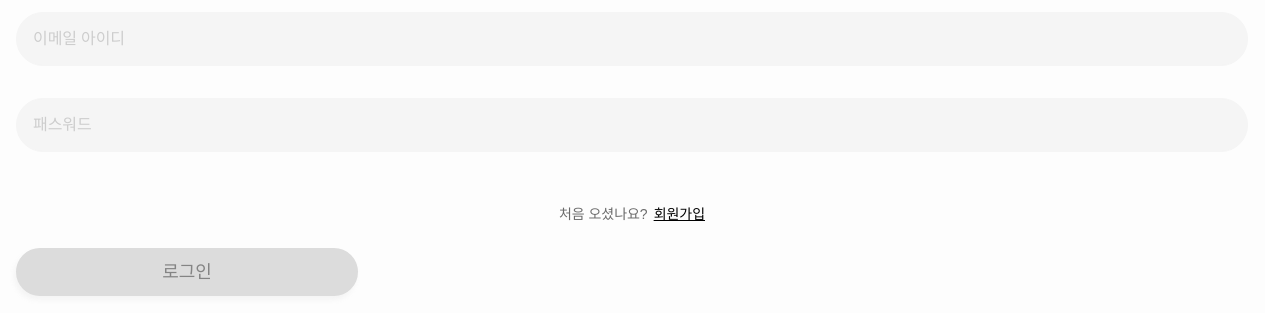
Test: EmailLoginForm › 유효하지 않은 이메일 입력 시 에러 메시지가 표시된다
Type "invalid-email" into the field with placeholder "이메일 아이디" at (632, 39), box [33, 13, 1231, 65]
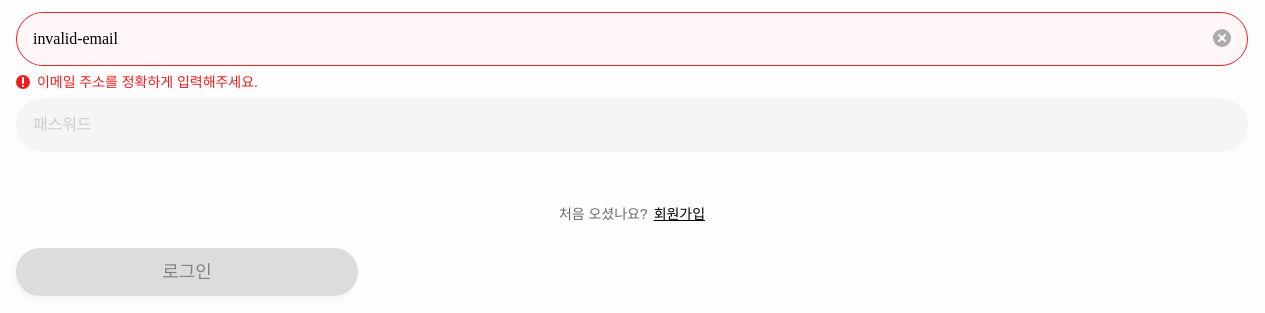
Now the text "이메일 주소를 정확하게 입력해주세요." is shown, box [37, 74, 258, 90]
